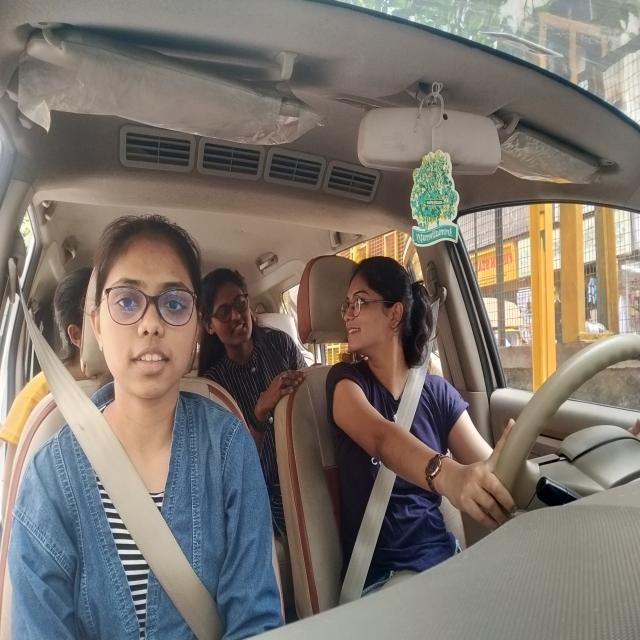LeftRight: (342, 258, 436, 366)
person: (93, 214, 206, 404), (50, 264, 99, 360), (208, 275, 256, 358)
talking: (344, 324, 367, 341)
